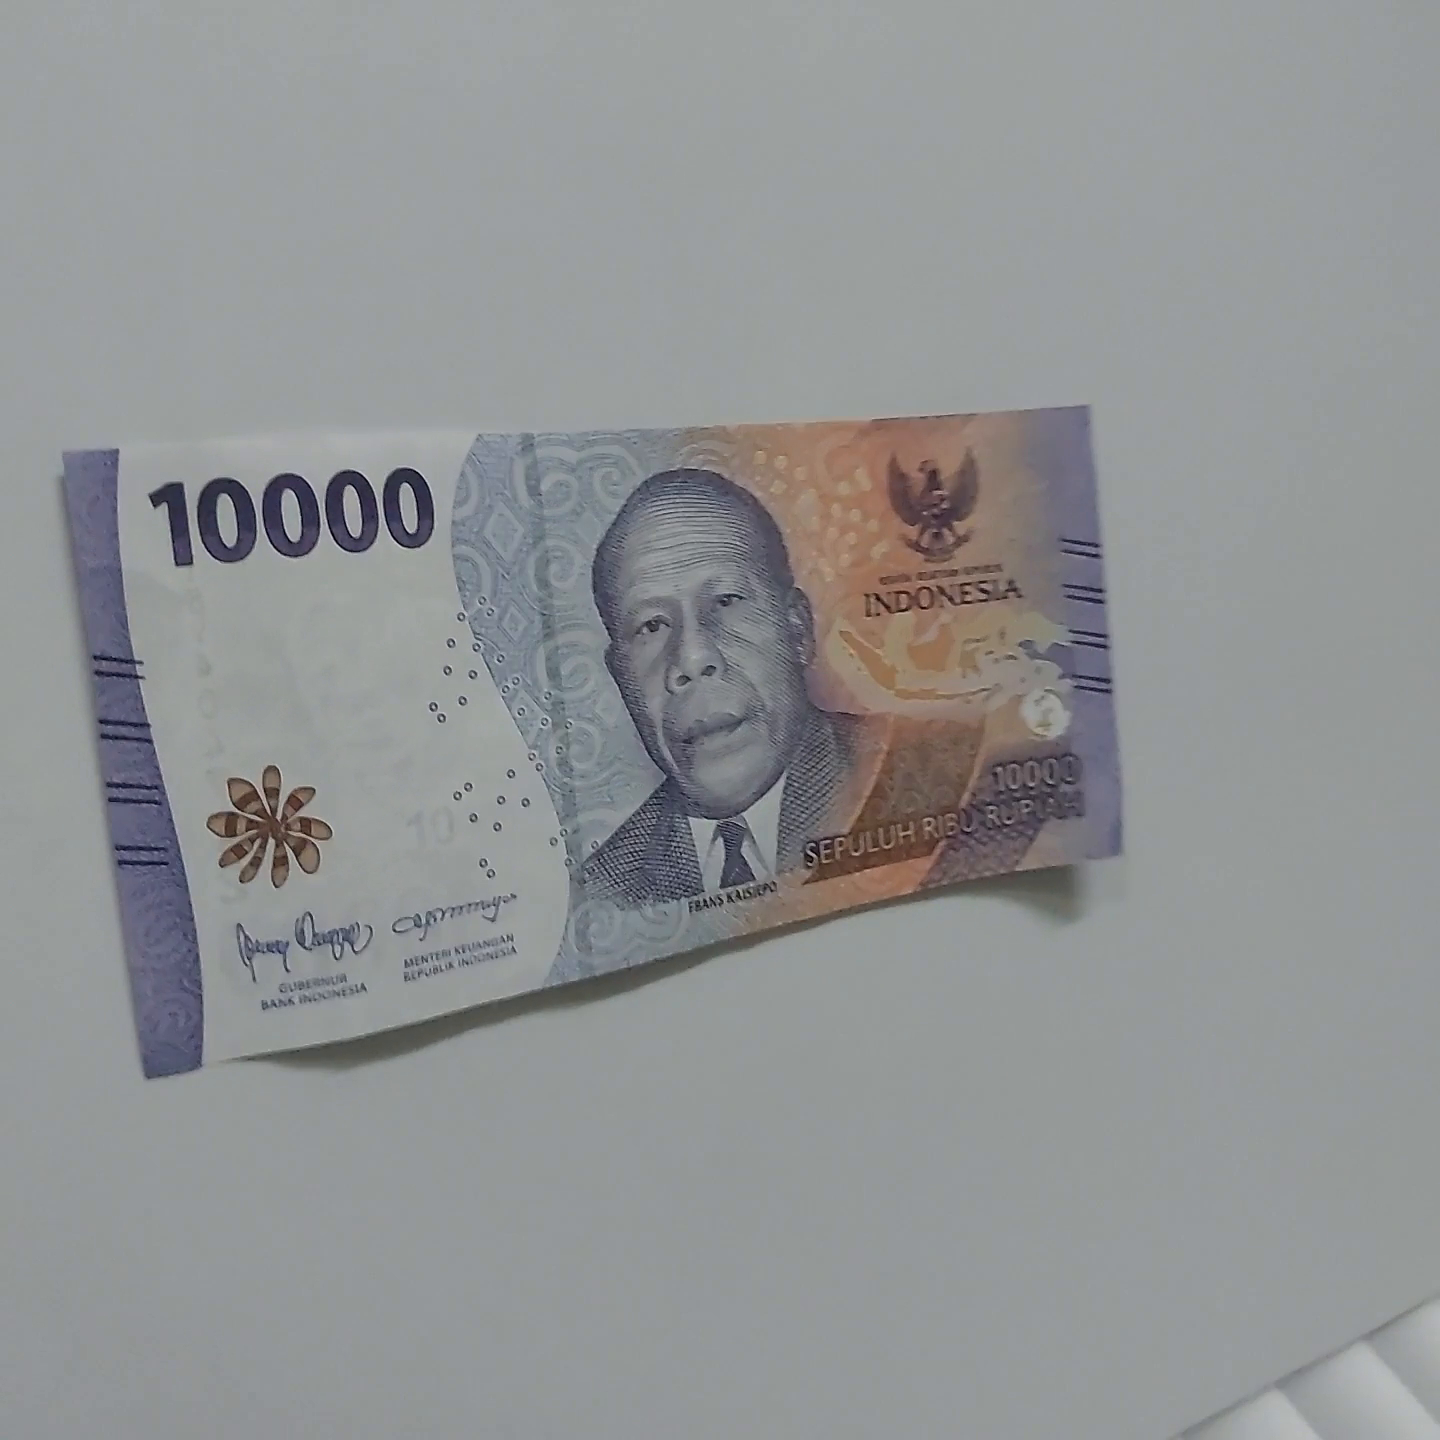10k: (42, 427, 1171, 1083)
